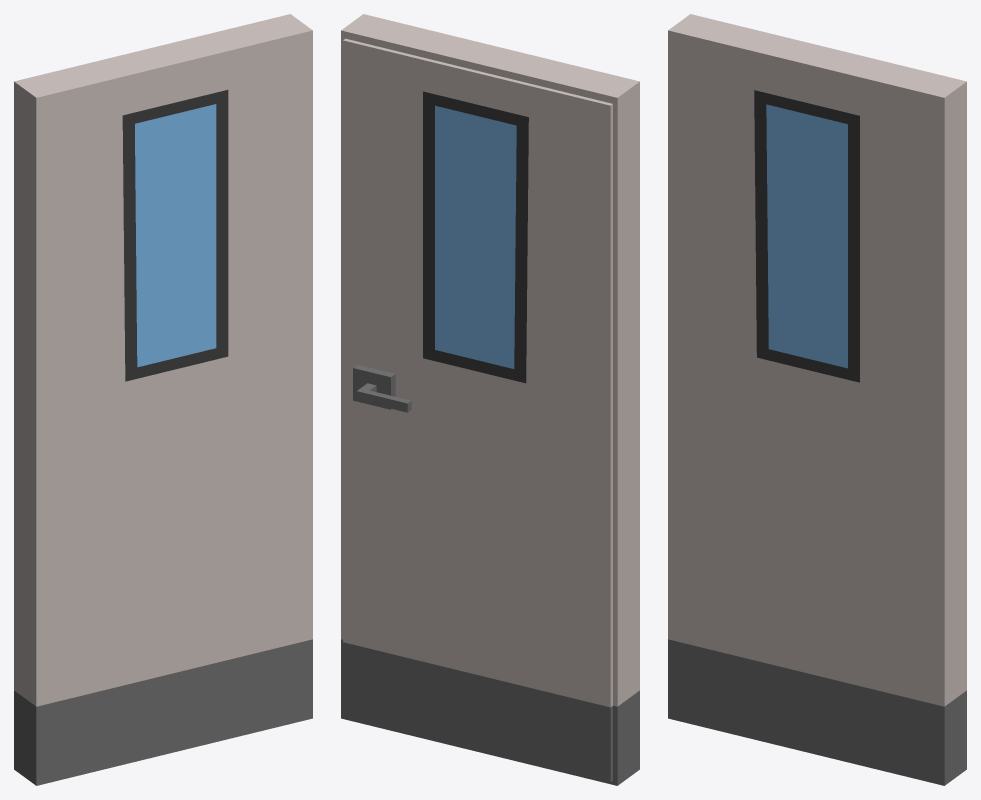
Rendered from Metal Door.fbx.
The picture shows the model from 3 angles, left to right: view 1: azimuth 30°, elevation 25°; view 2: azimuth 150°, elevation 25°; view 3: azimuth 330°, elevation 25°; orthographic projection.
Visible parts, largest first — view 1: Metal door; view 2: Metal door; view 3: Metal door.
Part boxes in pixels (x1,y1,x2,y2): Metal door: [14, 14, 312, 785]; Metal door: [341, 14, 639, 785]; Metal door: [668, 14, 966, 785].
Bounding box in the file's own units: 123 × 293 × 31.15.
